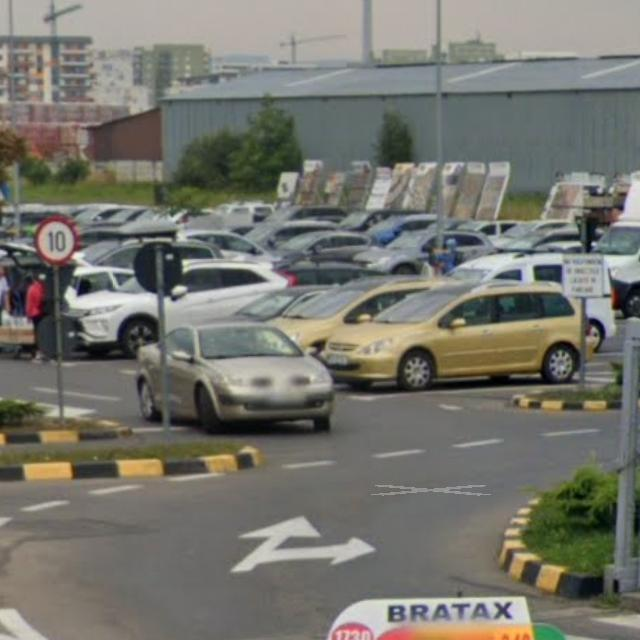forb_speed_over_10: (35, 216, 78, 266)
